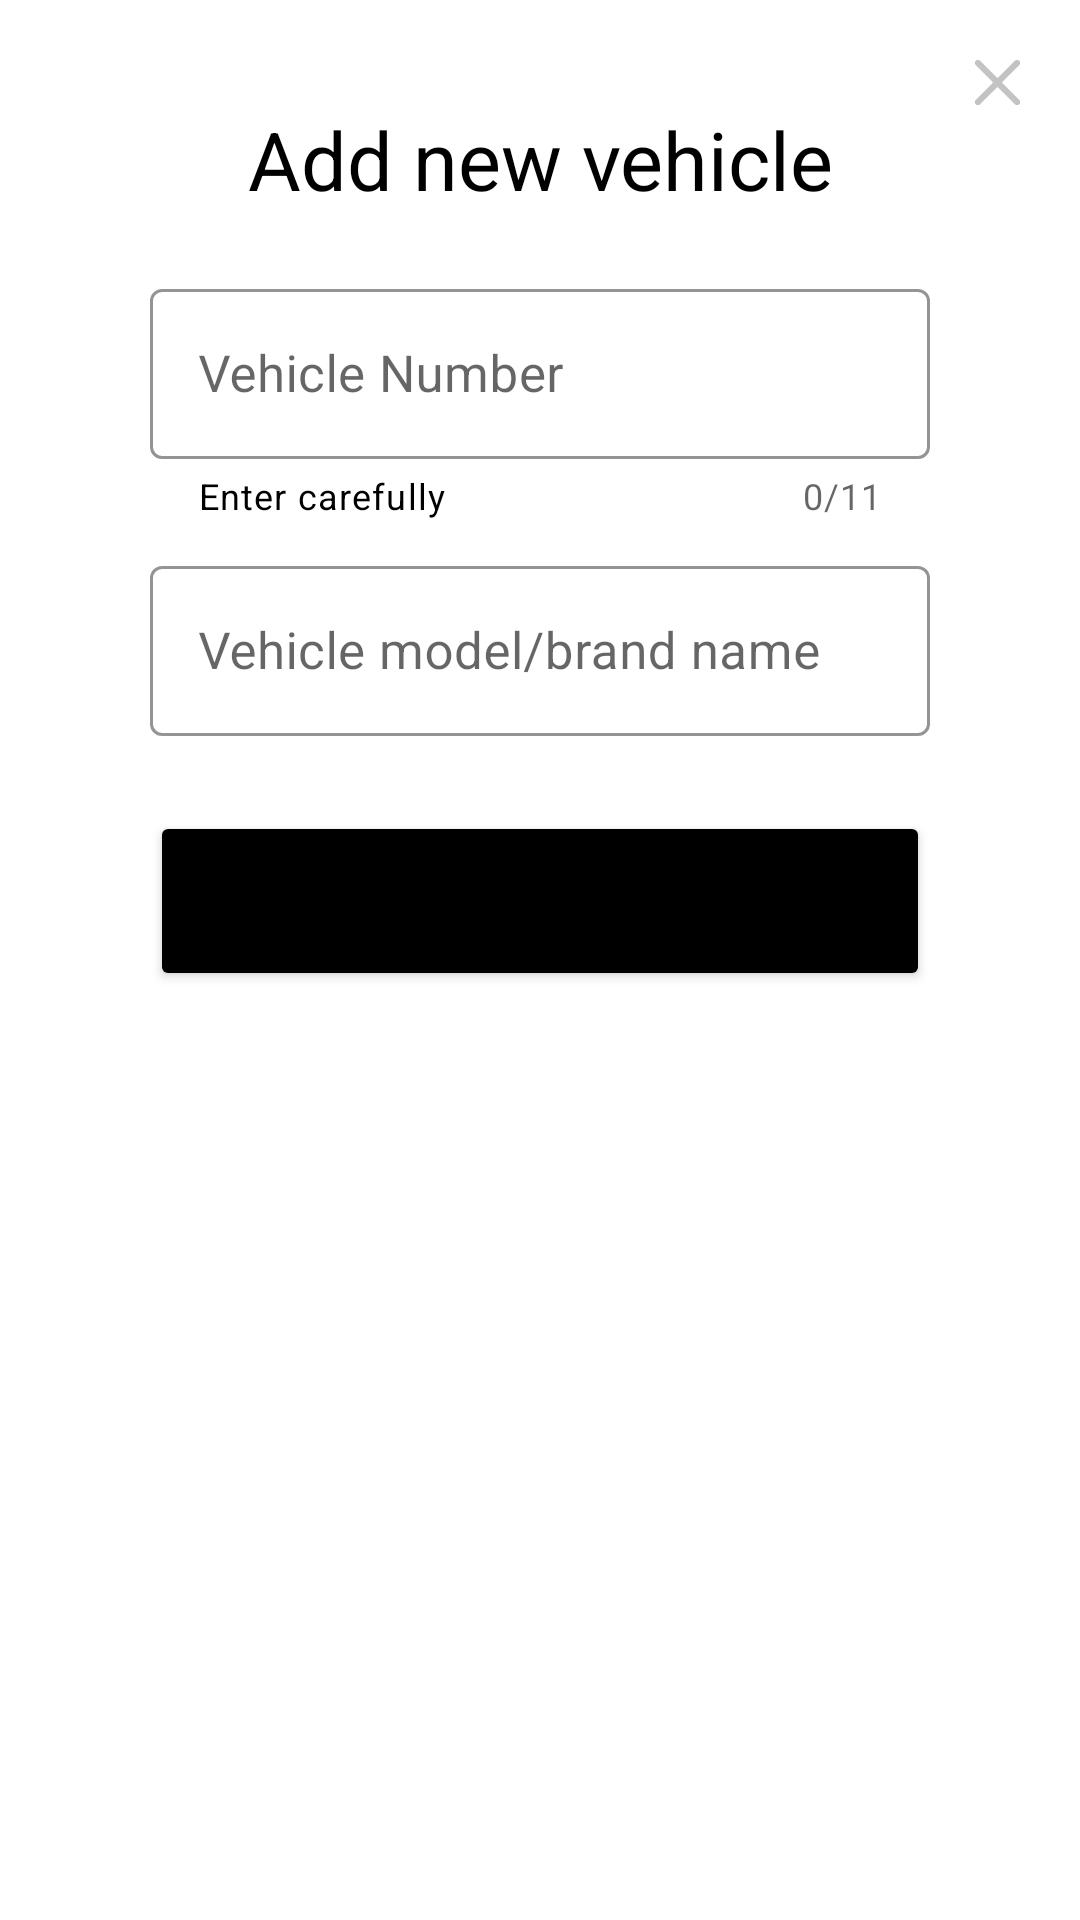

Named icons in this screenshot (1080×1920) and their centers, point (x, y):
cancel: point (997, 82)
